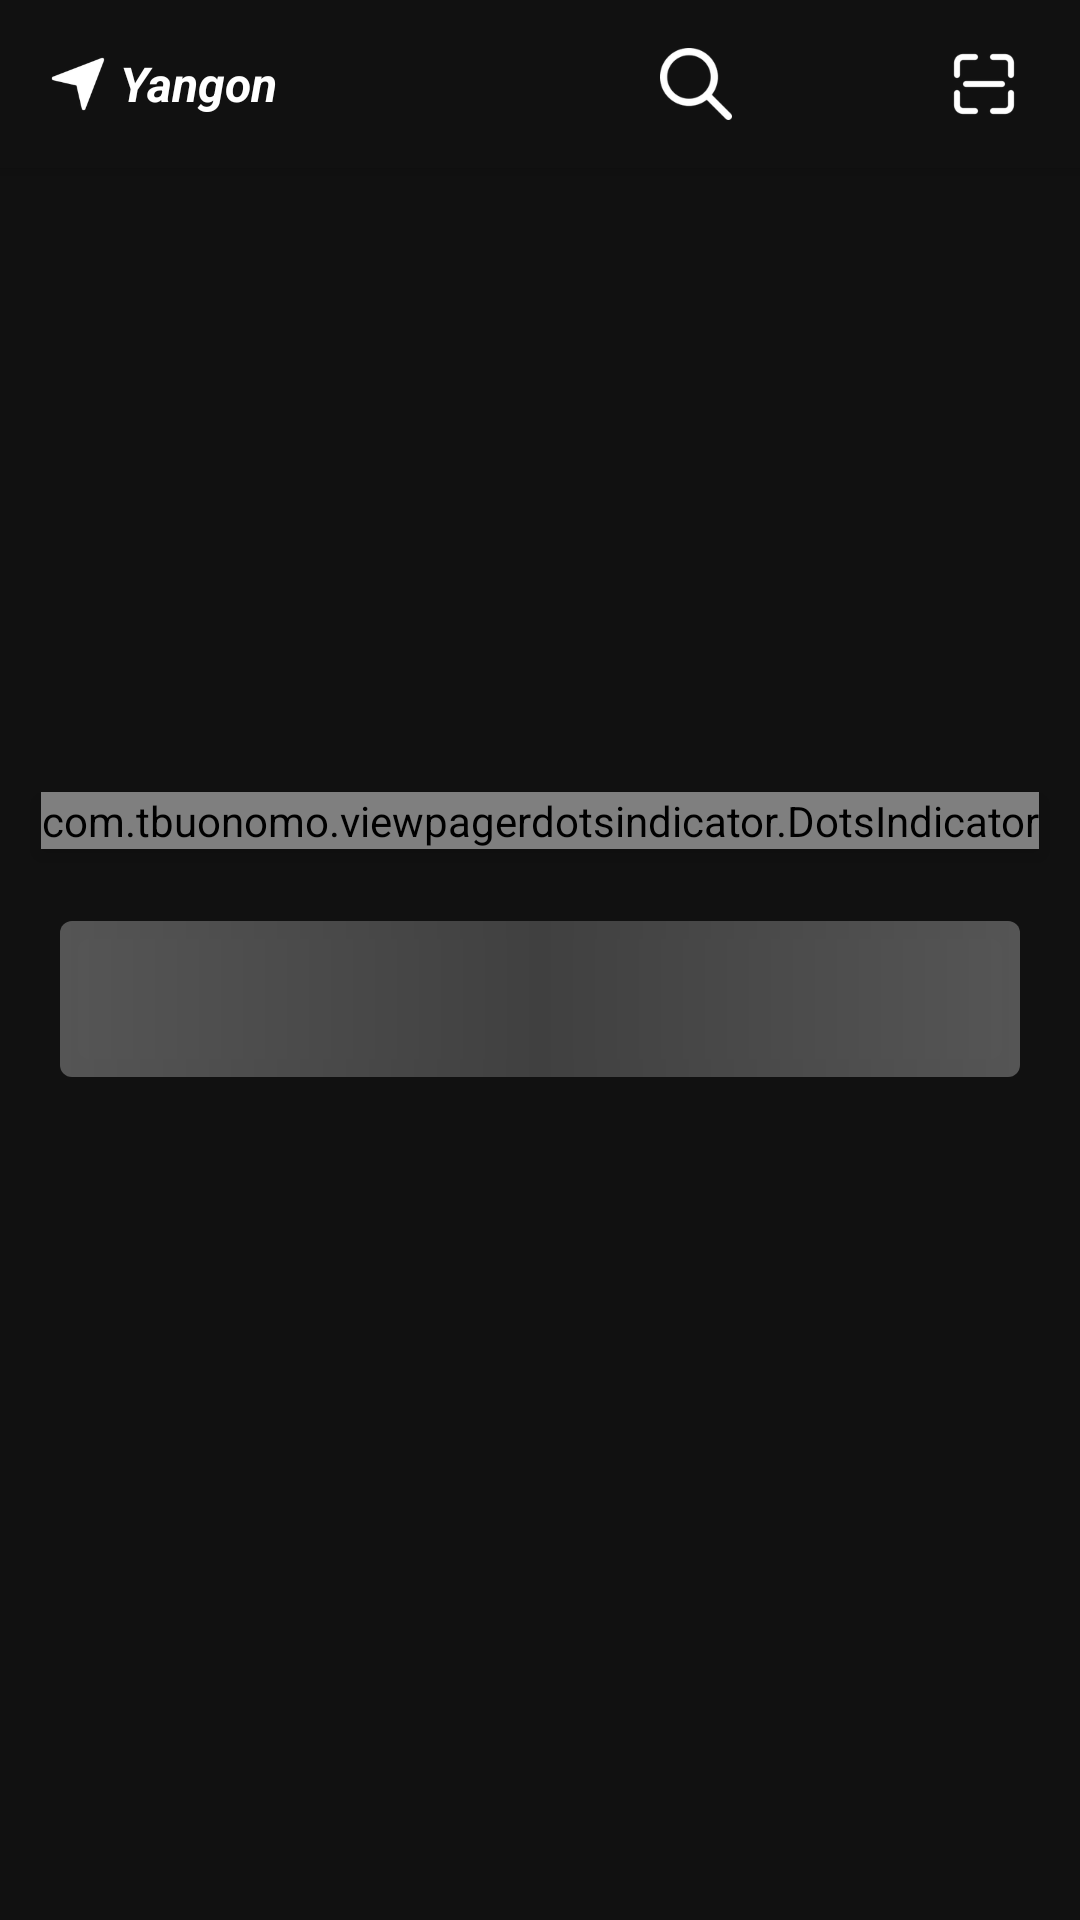

Screen size 1080*1920. Icon name, then its box in pixels as (x1, y1, x2, y2):
navigate: (51, 58, 104, 111)
scanning: (954, 54, 1014, 114)
search: (660, 48, 732, 120)
